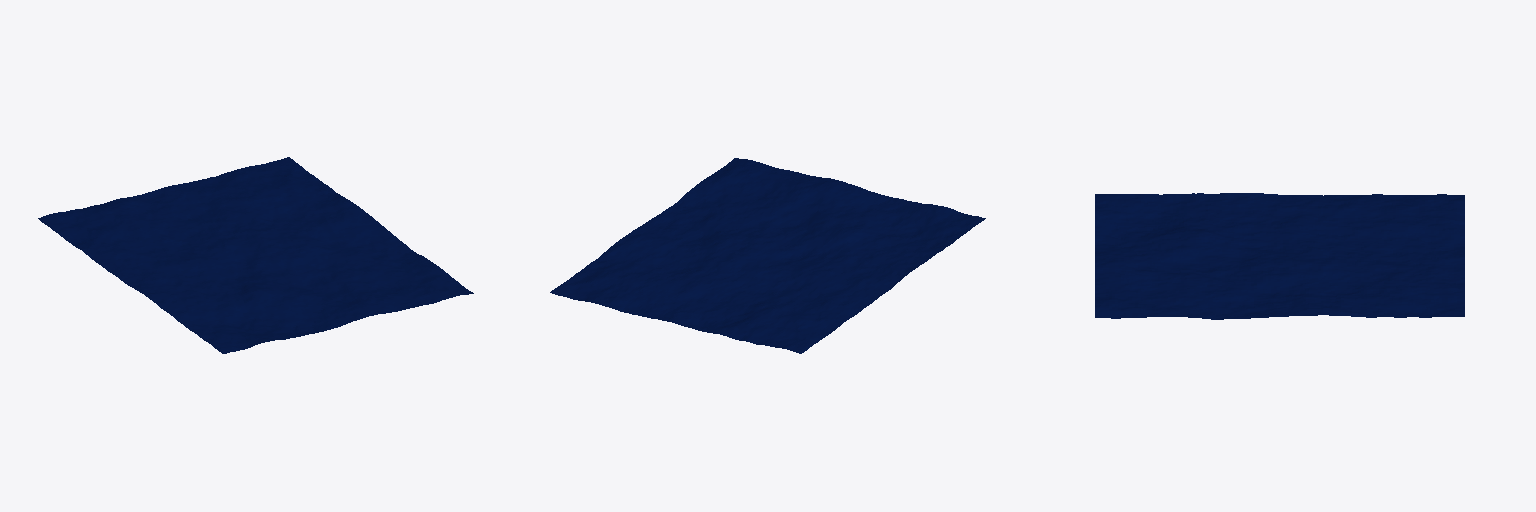
Rendered from Agua.obj.
3 renders of one model, left to right at view 1: azimuth 30°, elevation 25°; view 2: azimuth 150°, elevation 25°; view 3: azimuth 270°, elevation 25°, orthographic.
Parts seen in each view (by area): view 1: Plane.001_Plane.080; view 2: Plane.001_Plane.080; view 3: Plane.001_Plane.080.
Boxes of the visible parts, box(x1,y1,x2,y2) form: Plane.001_Plane.080: box(38, 157, 473, 353); Plane.001_Plane.080: box(550, 158, 985, 353); Plane.001_Plane.080: box(1095, 193, 1464, 319).
Size of the model in its own units: 159 by 4.12 by 203.